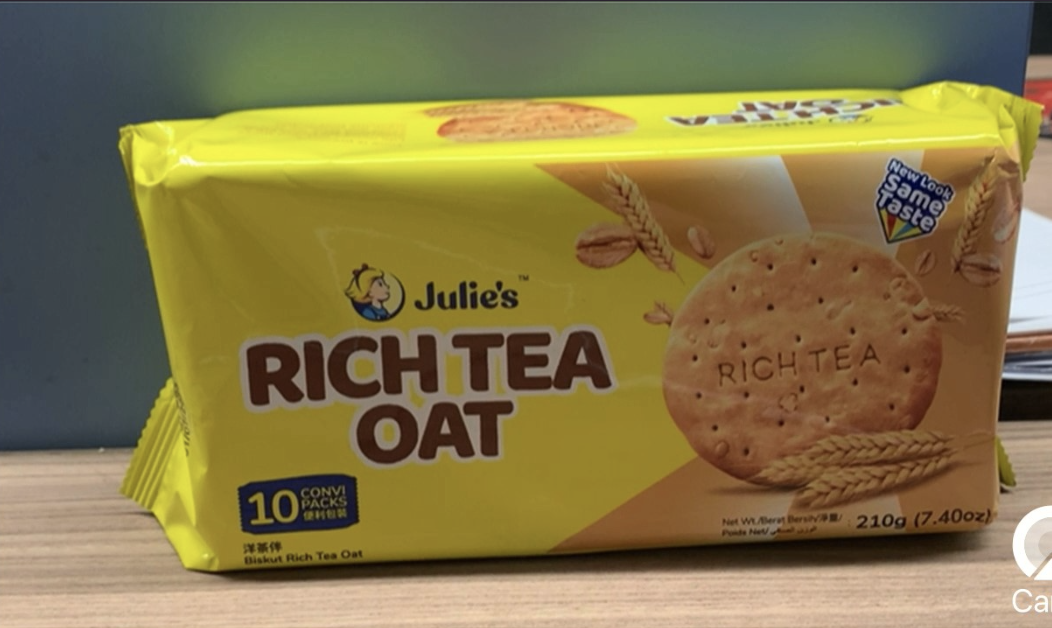cookies_200g-299g: (217, 166, 983, 528)
